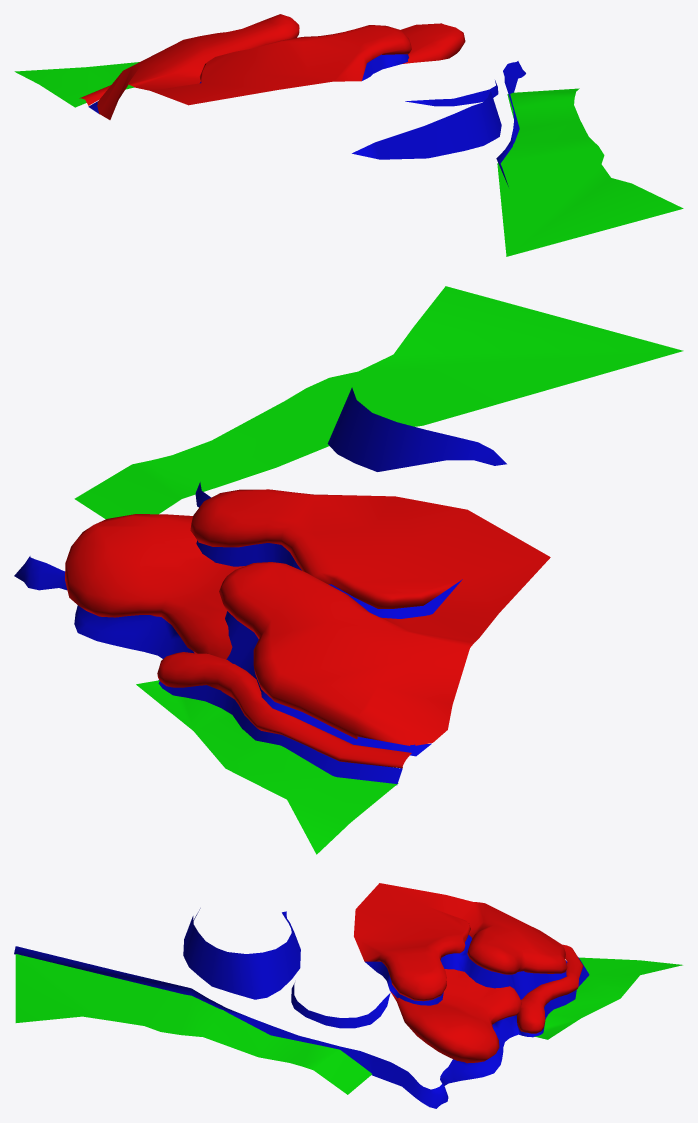
The model's file is VolcanoHills.glb.
3 renders of one model, top to bottom at view 1: azimuth 30°, elevation 25°; view 2: azimuth 150°, elevation 25°; view 3: azimuth 270°, elevation 25°, orthographic. The views are drawn at different scales.
Parts seen in each view (by area): view 1: VolcanoHills; view 2: VolcanoHills; view 3: VolcanoHills.
Boxes of the visible parts, x1=… form: VolcanoHills: x1=14, y1=14, x2=683, y2=256; VolcanoHills: x1=14, y1=286, x2=683, y2=854; VolcanoHills: x1=14, y1=883, x2=682, y2=1108.
Size of the model in its own units: 27.2 by 8.72 by 48.39.
